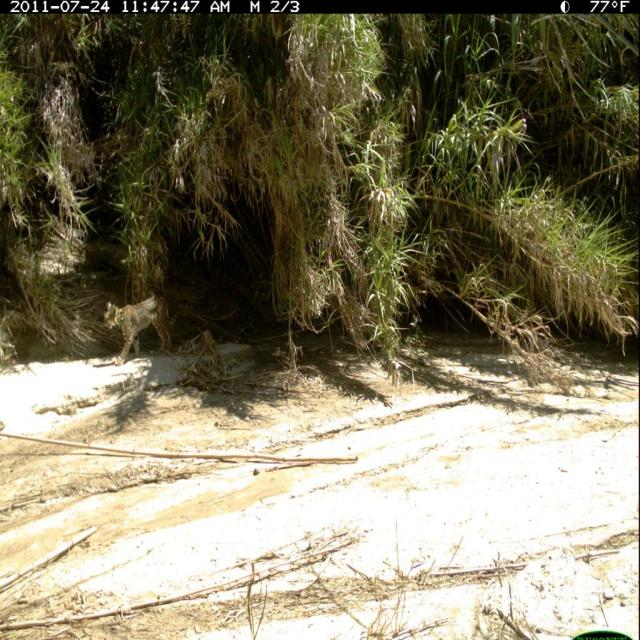bobcat: (100, 289, 180, 369)
